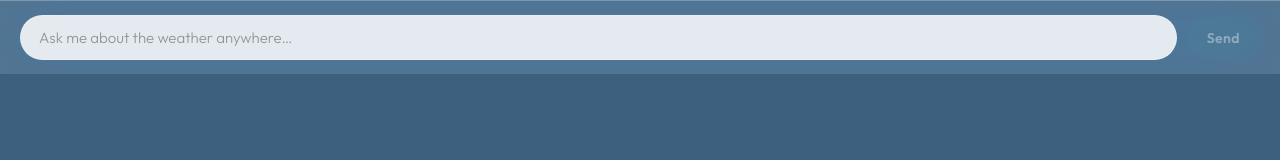
Test: ChatInput › clears the input after successful submit
The image size is (1280, 160).
Type "London weather?" into the field.
click(598, 38); type("London weather?")  # box [20,15,1177,60]
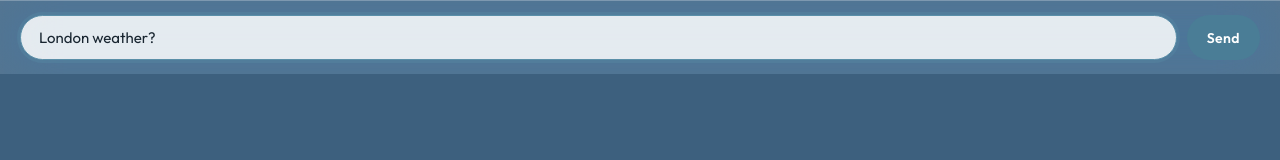
Press Enter
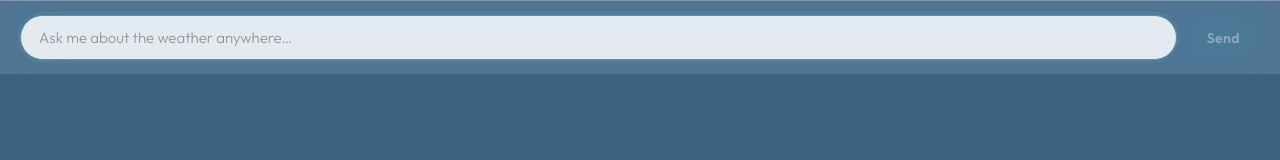
Now the field is empty, box [20,15,1177,60]
